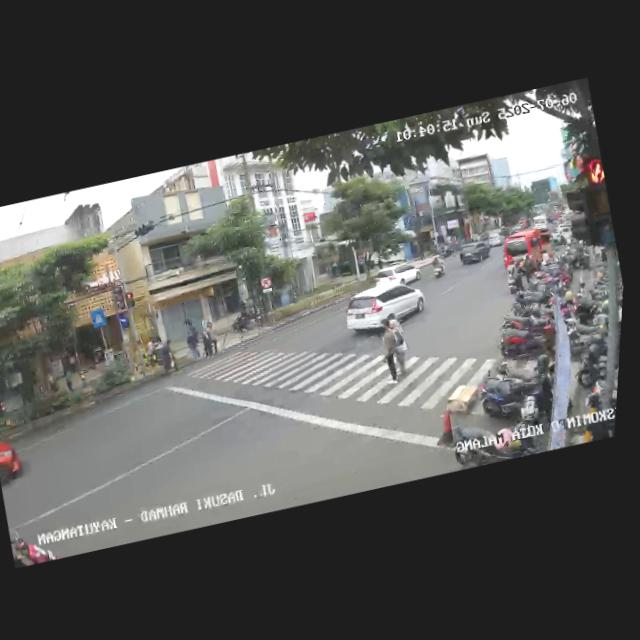car: (337, 275, 428, 340), (497, 223, 560, 277), (0, 430, 31, 490), (369, 258, 424, 290), (454, 237, 493, 269)
motorcycle: (5, 514, 57, 568), (502, 261, 526, 298), (428, 253, 448, 281)
person: (373, 316, 405, 383), (385, 314, 415, 379), (156, 335, 181, 377), (202, 318, 222, 354), (182, 327, 202, 362)
